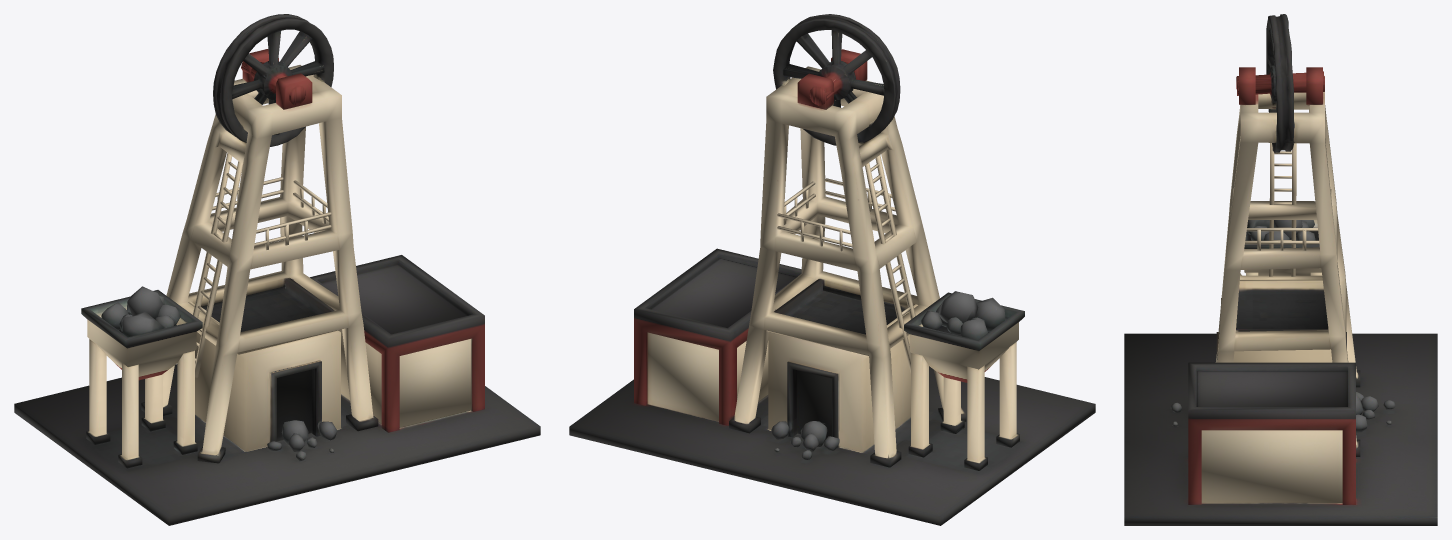
File: original_glb.glb
3 renders of one model, left to right at view 1: azimuth 30°, elevation 25°; view 2: azimuth 150°, elevation 25°; view 3: azimuth 270°, elevation 25°, orthographic.
Parts seen in each view (by area): view 1: Ivory Spoked Hoist Mine; view 2: Ivory Spoked Hoist Mine; view 3: Ivory Spoked Hoist Mine.
Part boxes in pixels (x1=…): Ivory Spoked Hoist Mine: x1=14, y1=14, x2=540, y2=525; Ivory Spoked Hoist Mine: x1=569, y1=14, x2=1095, y2=525; Ivory Spoked Hoist Mine: x1=1124, y1=14, x2=1437, y2=525.
Size of the model in its own units: 0.9551 by 0.998 by 0.6895.
Materials: 1 (1 with a texture image).
